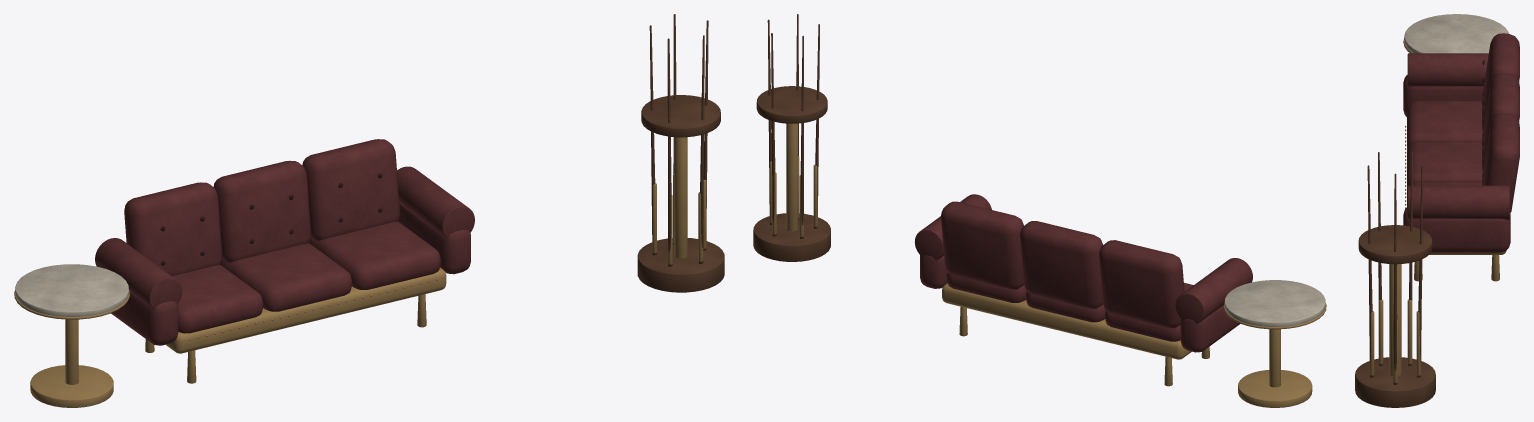
File: corner-furniture.glb
3 views of the same model, side by side, from view 1: azimuth 30°, elevation 25°; view 2: azimuth 150°, elevation 25°; view 3: azimuth 270°, elevation 25° (orthographic). The views are drawn at different scales.
Parts seen in each view (by area): view 1: Individual tailored seat cushion, Floating bench frame, Cue stand foot, Honed stone side table; view 2: Individual tailored seat cushion, Floating bench frame, Cue stand foot, Honed stone side table; view 3: Individual tailored seat cushion, Cue stand foot, Honed stone side table, Floating bench frame.
Boxes of the visible parts, x1,y1,x2,y2 form: Individual tailored seat cushion: (95, 139, 474, 345); Floating bench frame: (14, 137, 706, 407); Cue stand foot: (637, 14, 724, 292); Honed stone side table: (15, 264, 128, 316); Individual tailored seat cushion: (914, 194, 1252, 352); Floating bench frame: (769, 123, 1326, 407); Cue stand foot: (753, 14, 830, 261); Honed stone side table: (1224, 280, 1325, 326); Individual tailored seat cushion: (1403, 33, 1519, 252); Cue stand foot: (1355, 152, 1435, 407); Honed stone side table: (1404, 14, 1508, 53); Floating bench frame: (1369, 38, 1506, 382).
Bounding box in the file's own units: 4.03 × 1.44 × 0.9381.
5 materials, 5 textured.
